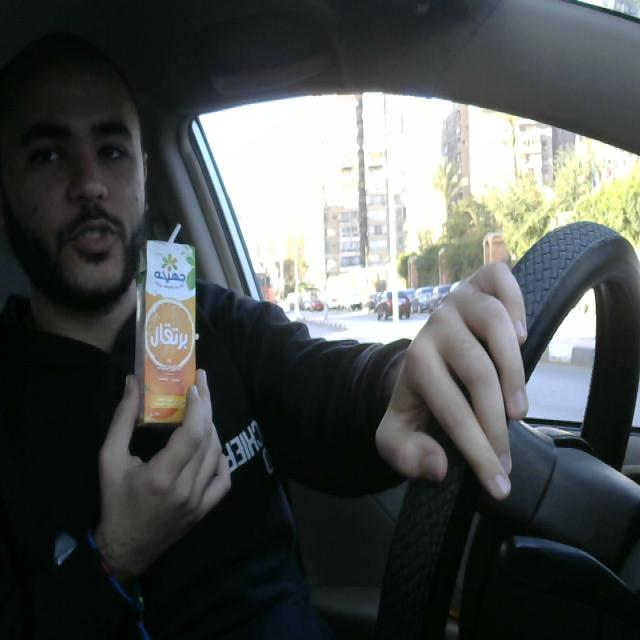drinking: (135, 214, 200, 436)
